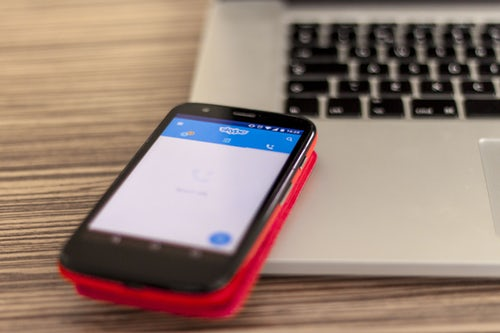phone: (56, 99, 321, 308)
